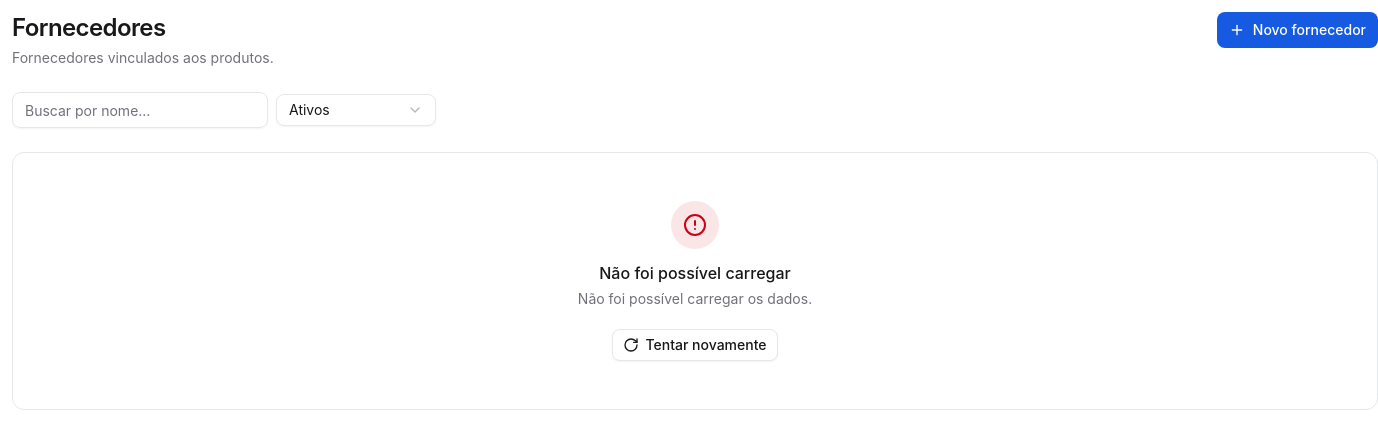
Test: SuppliersPage › erro de rede mostra o estado de erro da tabela, com nova tentativa
The width and height of the screenshot is (1378, 427).
Expected: the text "Não foi possível carregar os dados." is shown, [578,289,812,309]
Click the button "Tentar novamente" at (695,345), box [612,329,778,361]
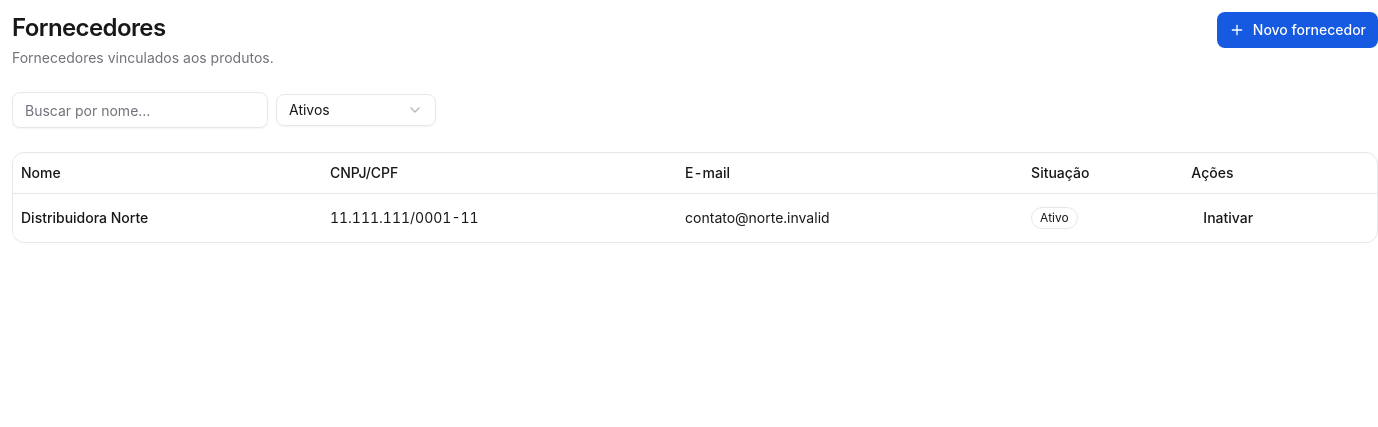
Result: the link "Distribuidora Norte" is shown at [21,208,148,226]
